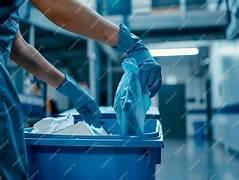Glove: (114, 24, 161, 97), (57, 75, 100, 127)
